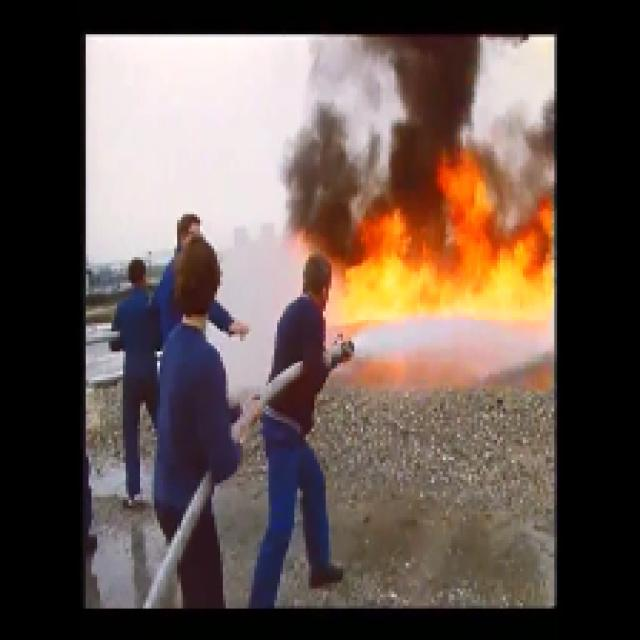fire: (357, 223, 547, 319)
smoke: (390, 48, 450, 212)
